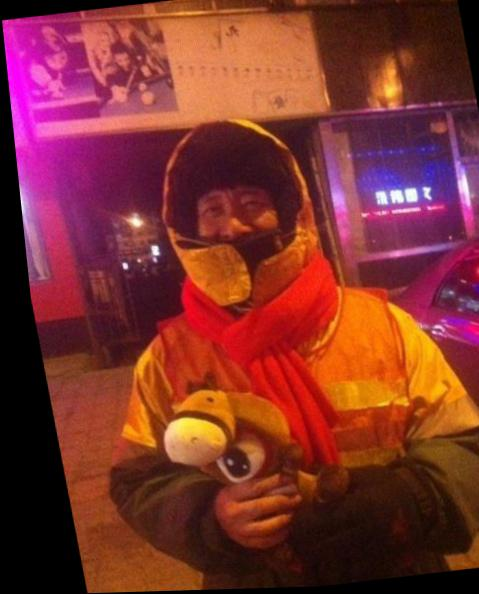WRONG: (179, 178, 292, 290)
